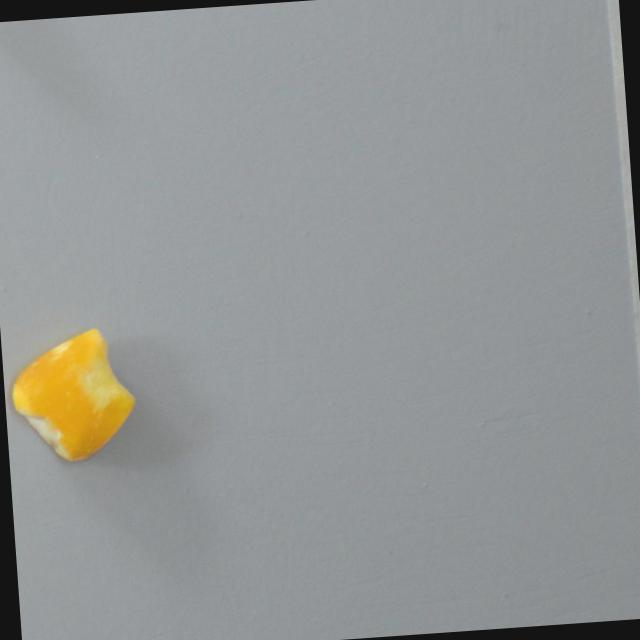no_canjicado: (8, 325, 140, 467)
